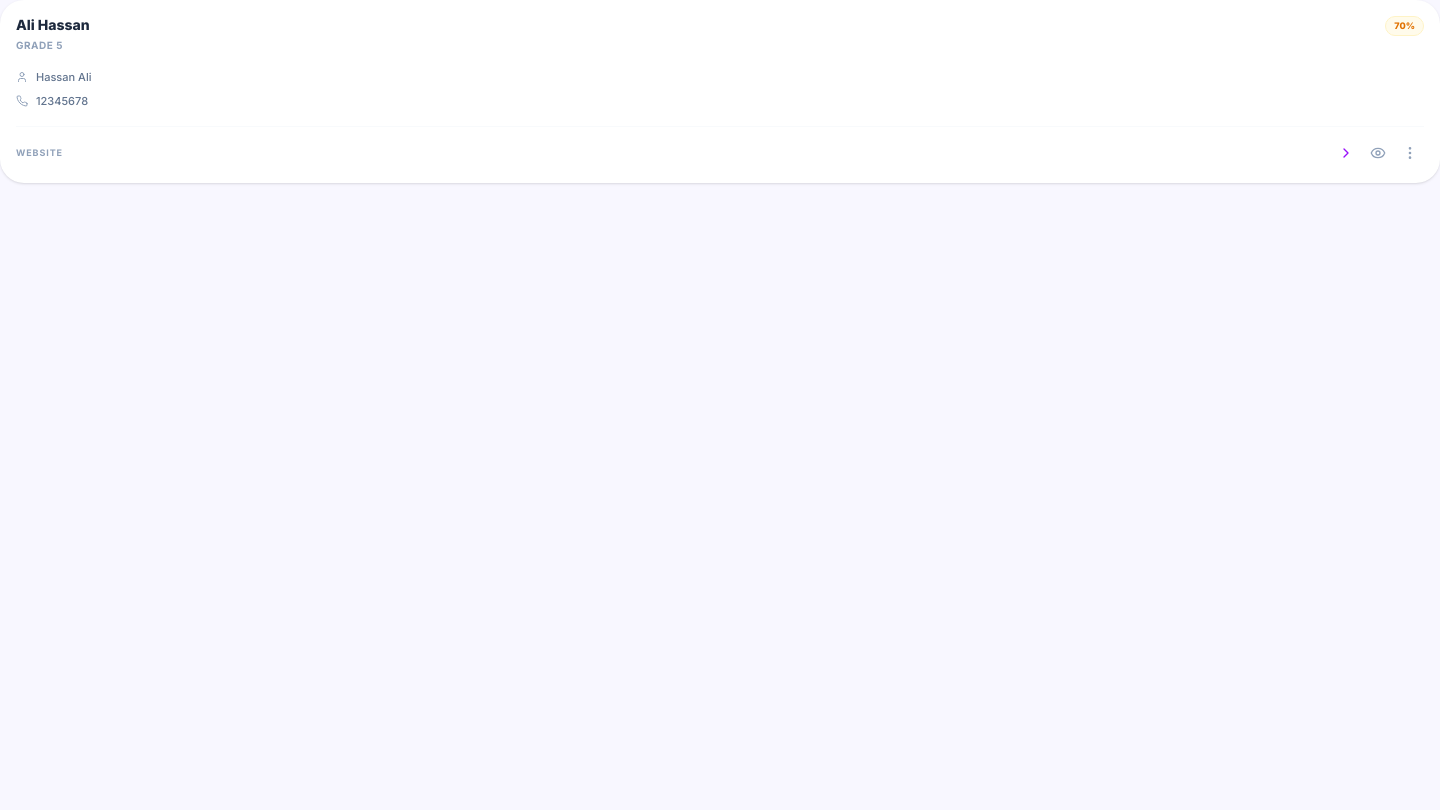
Test case: LeadCard › opens the edit dialog, edits a field, and saves via updateLead
# Open the dropdown then click Edit Details (Radix portal).
Click the button named "Lead actions" at (1410, 152), box [1396,138,1424,166]
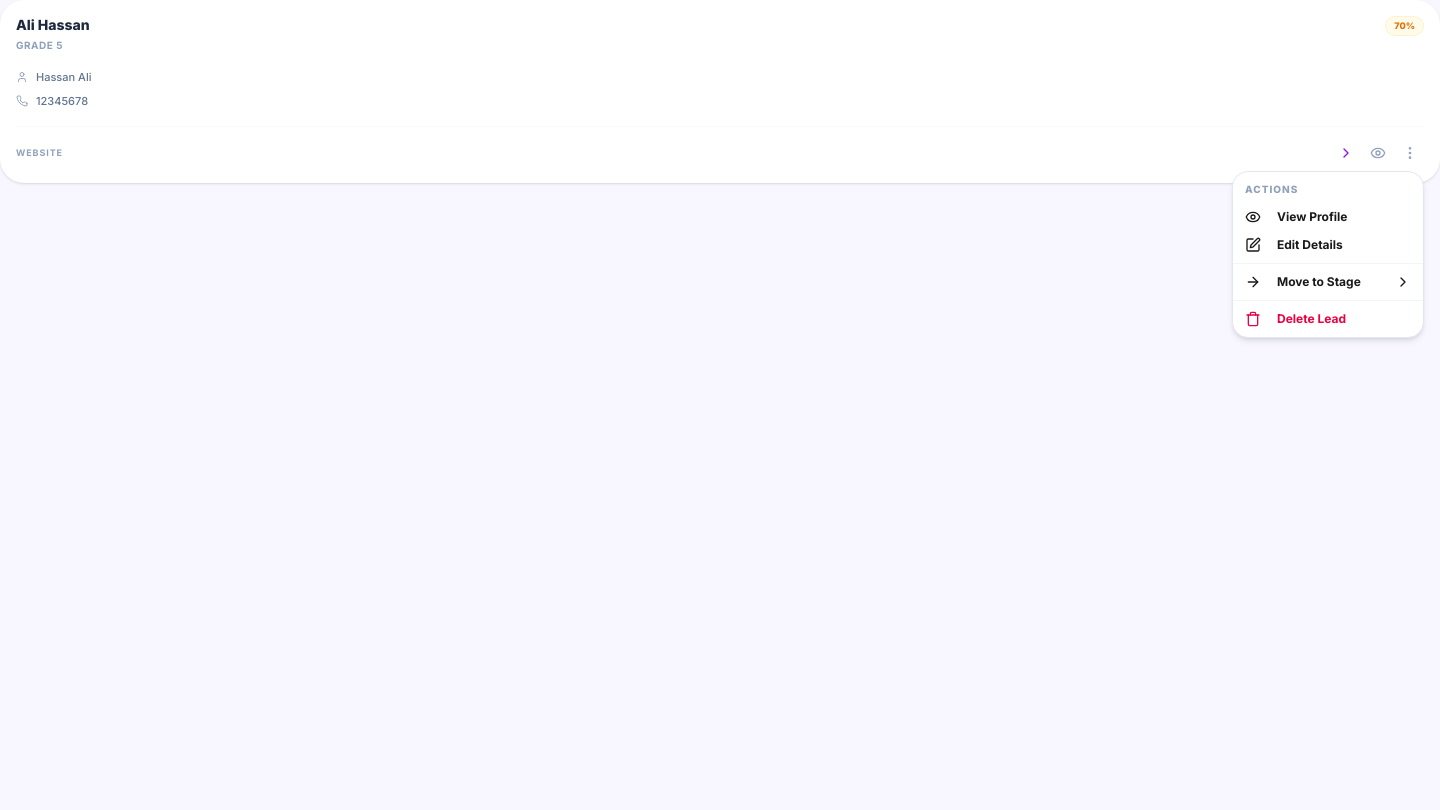
Click the menu item "Edit Details" at (1294, 245), box [1245,237,1343,253]
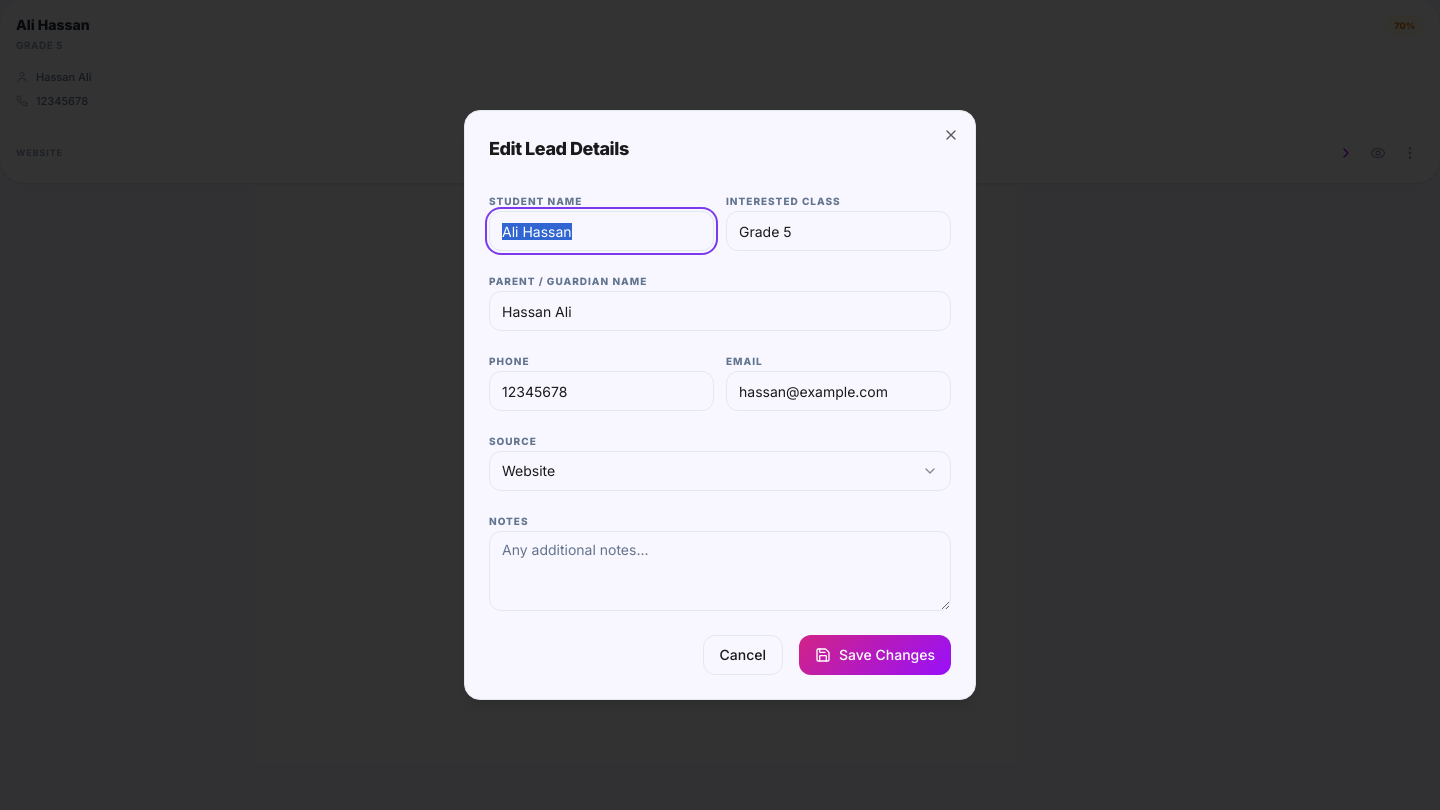
Replace the text in the field showing "Ali Hassan" below "Student Name" with "Ali Updated" at (602, 231), box [489,211,714,251]
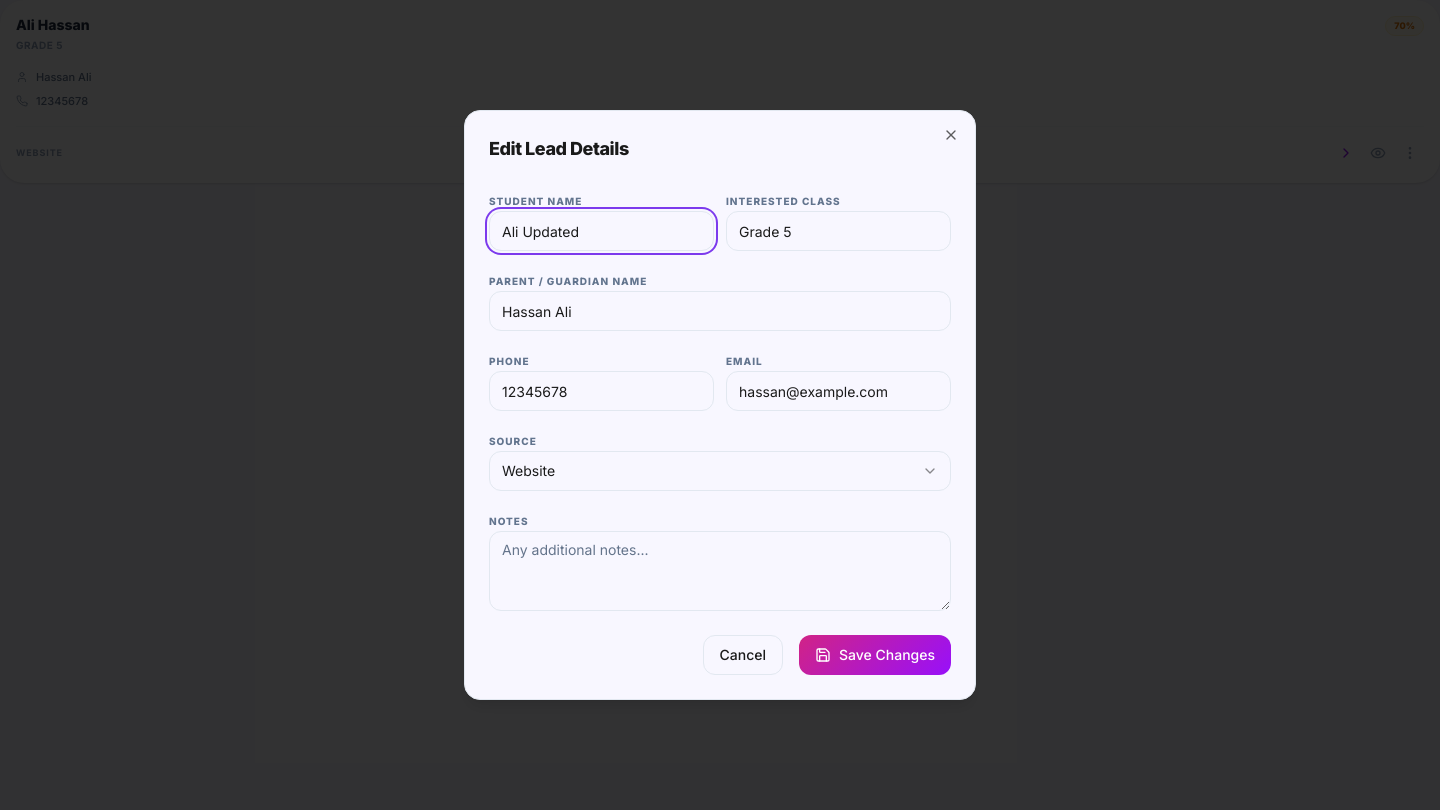
Click the button "Save Changes" at (875, 655), box [799,635,951,675]
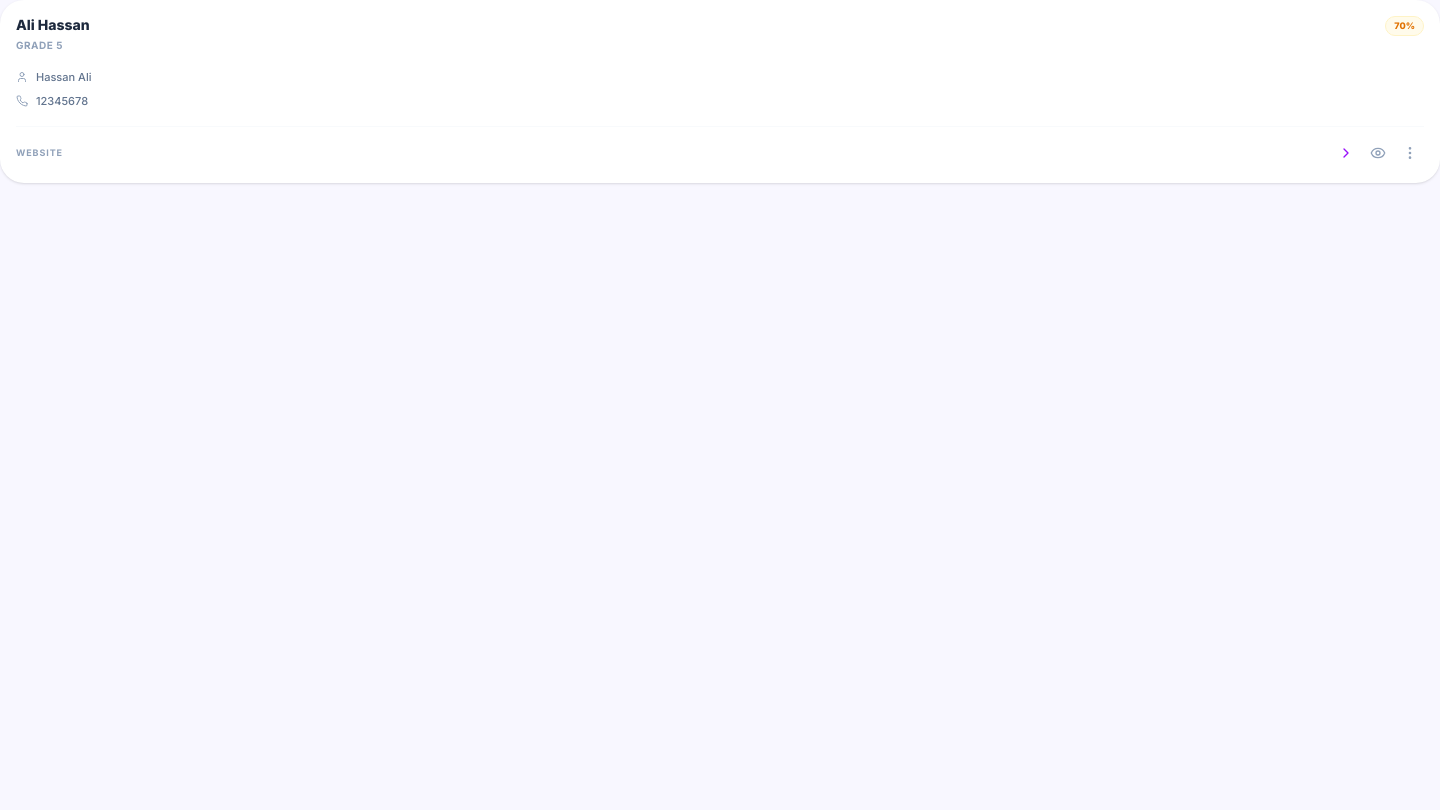
Expected: the heading "Edit Lead Details" is gone
